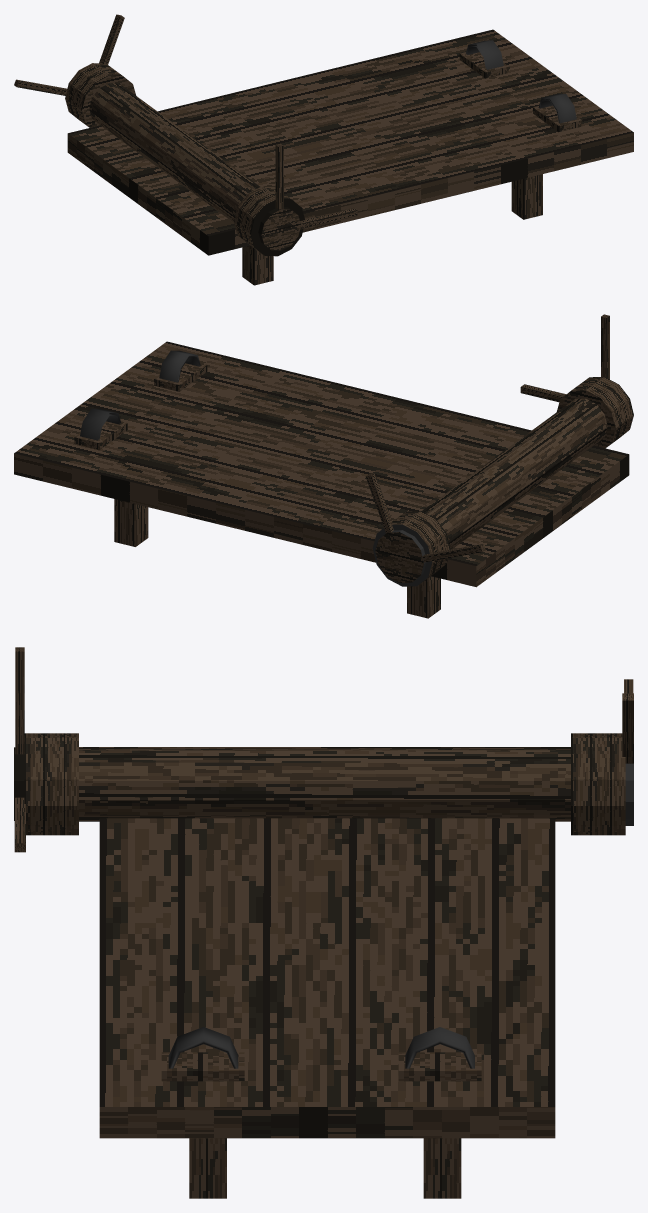
File: maquinas de tortura1.glb
3 renders of one model, top to bottom at view 1: azimuth 30°, elevation 25°; view 2: azimuth 150°, elevation 25°; view 3: azimuth 270°, elevation 25°, orthographic. The views are drawn at different scales.
Parts seen in each view (by area): view 1: mesatortura1-col; view 2: mesatortura1-col; view 3: mesatortura1-col.
Part boxes in pixels (<box>): mesatortura1-col: <box>14,14,633,285</box>; mesatortura1-col: <box>14,314,633,618</box>; mesatortura1-col: <box>14,647,633,1198</box>.
Size of the model in its own units: 1.93 by 0.7483 by 1.4.
2 materials, 1 textured.
